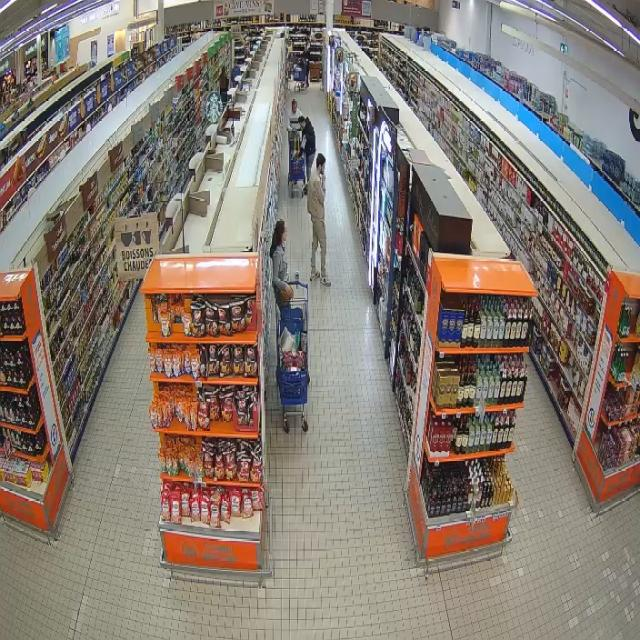hands: (286, 284, 294, 299)
person: (307, 154, 329, 286), (270, 219, 293, 307), (298, 116, 315, 192), (287, 99, 303, 131)
